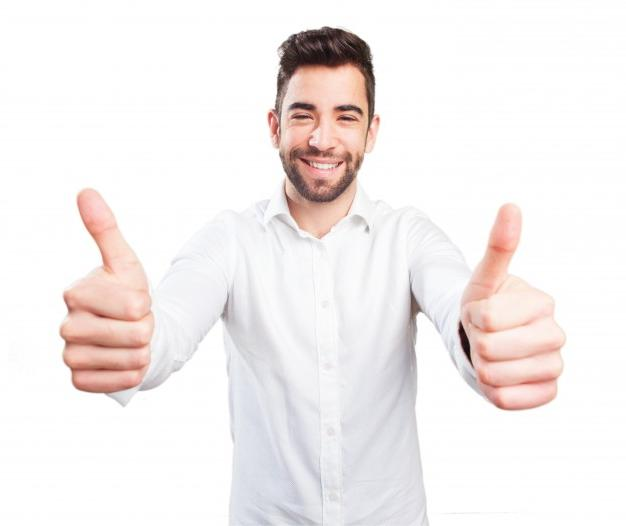thumbsup: (466, 203, 566, 411), (59, 188, 156, 393)
